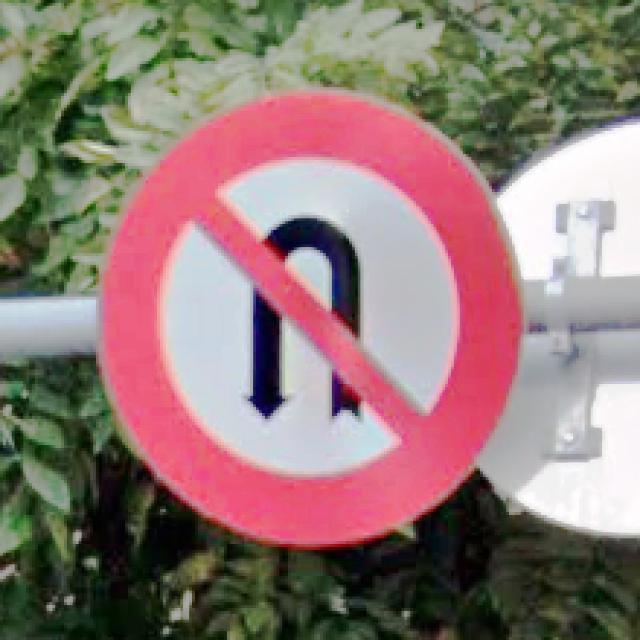nouturn: (96, 90, 524, 547)
